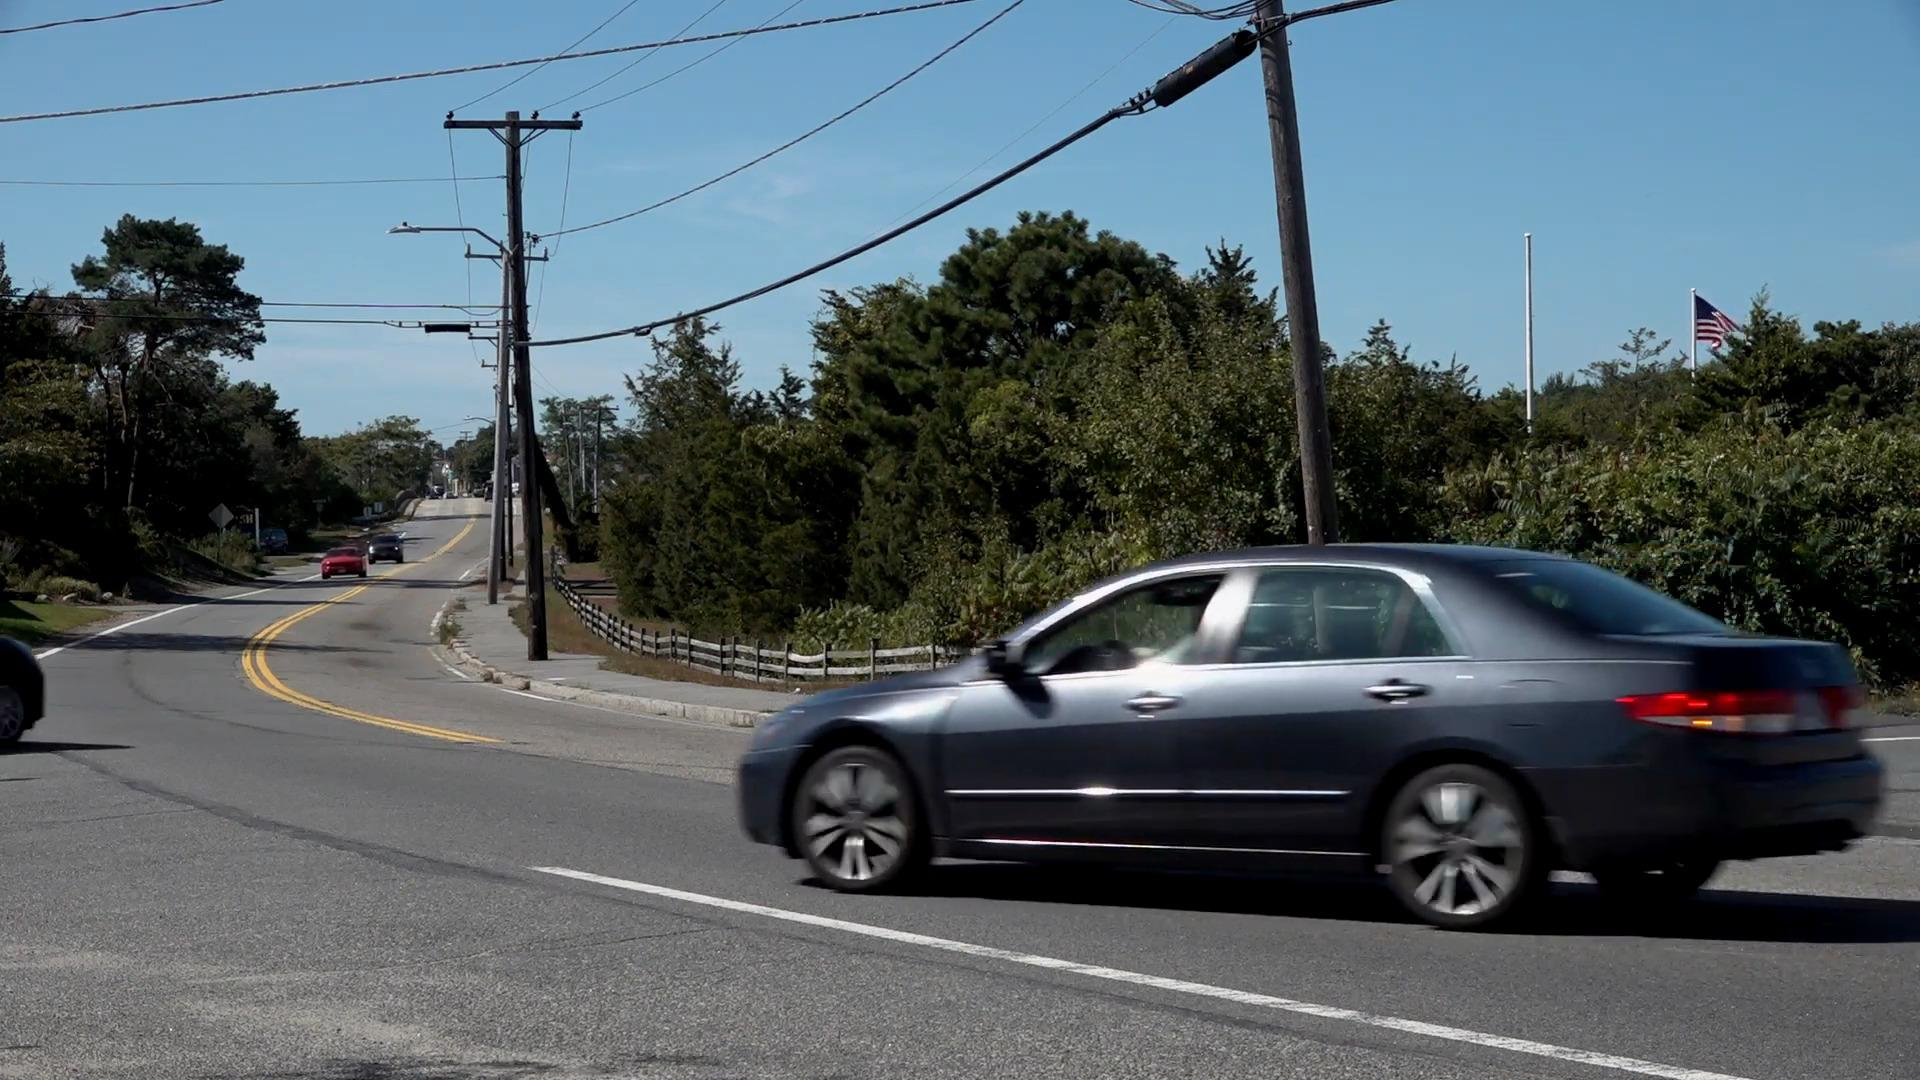sedans: (744, 547, 1887, 939)
